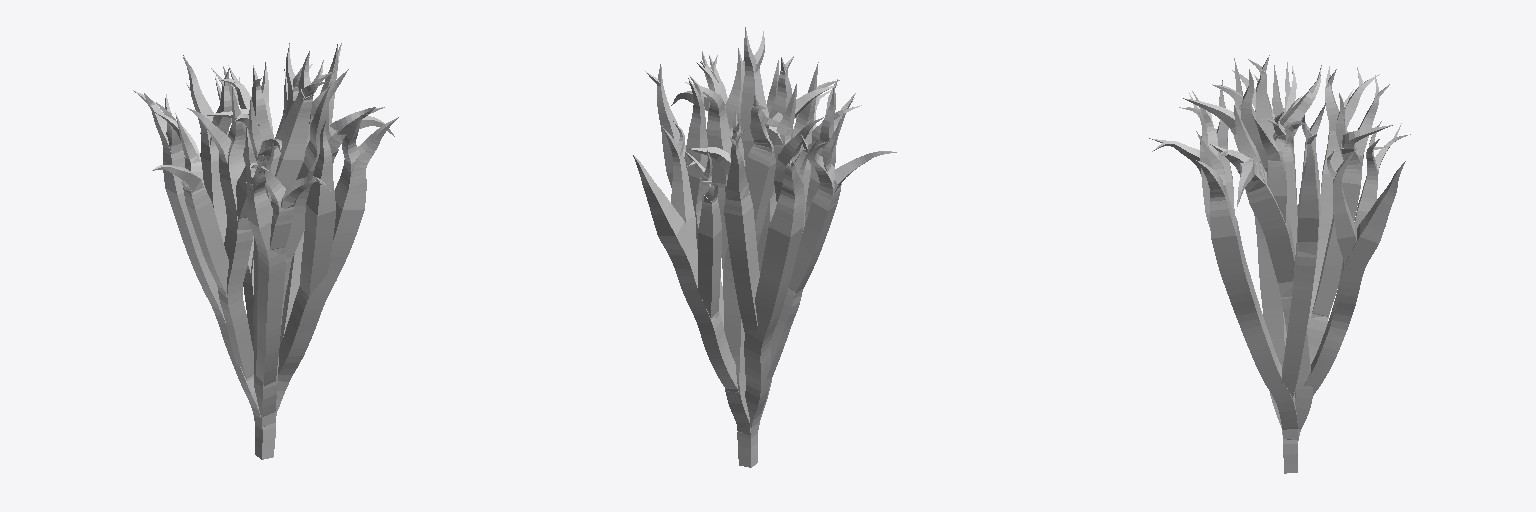
File: bendytree_000010.obj
3 views of the same model, side by side, from view 1: azimuth 30°, elevation 25°; view 2: azimuth 150°, elevation 25°; view 3: azimuth 270°, elevation 25° (orthographic).
Visible parts, largest first — view 1: treemesh_treemesh.001; view 2: treemesh_treemesh.001; view 3: treemesh_treemesh.001.
Part boxes in pixels (x1,y1,x2,y2): treemesh_treemesh.001: (133, 43, 398, 459); treemesh_treemesh.001: (633, 27, 896, 467); treemesh_treemesh.001: (1149, 55, 1410, 473).
Bounding box in the file's own units: 3.88 × 6.52 × 3.72.